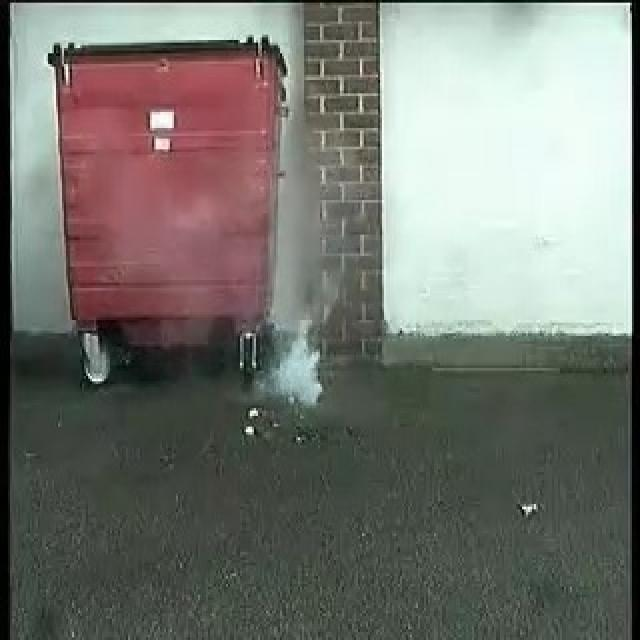smoke: (270, 170, 327, 407)
